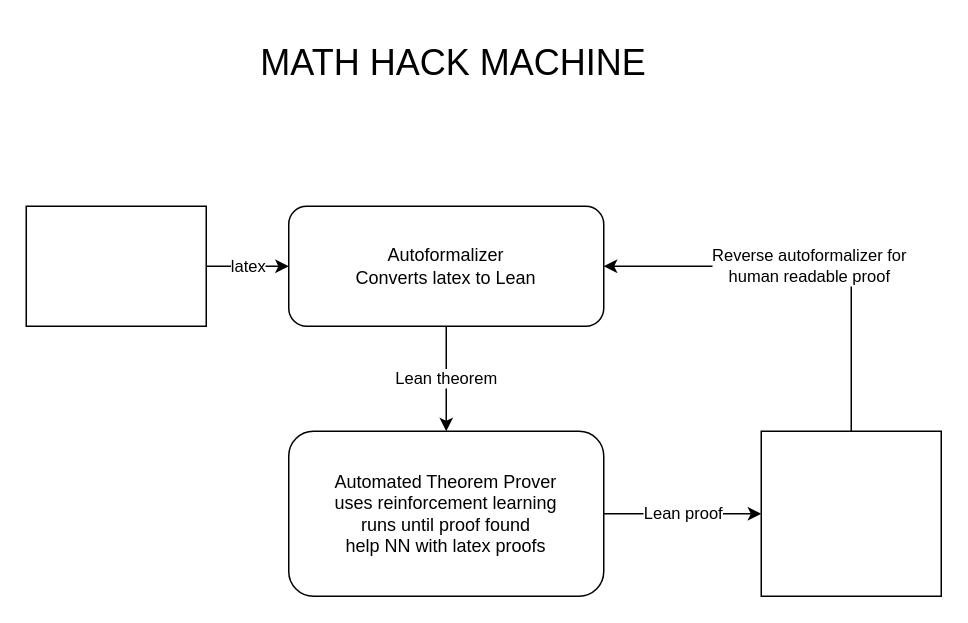
Some shapes in this 968 by 623 pixel diagram are drawn without their labels. Each missing label, with the box of its shape:
Bank of proven theorems: (760, 430, 941, 596)
Step 1: Train with latex/Lean pairs Step 2: Feed latex theorems: (25, 205, 206, 326)
